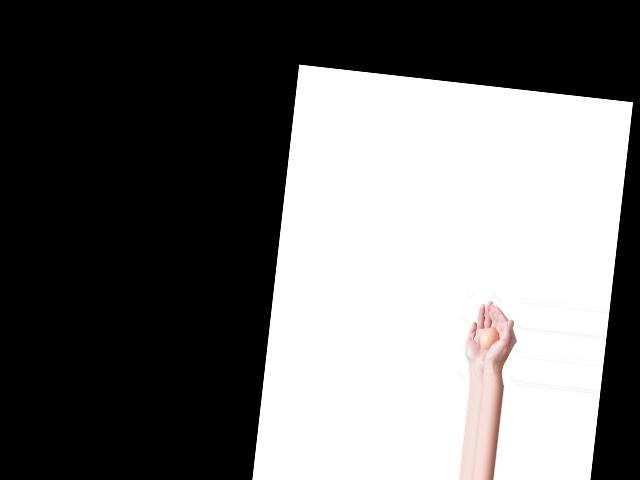egg: (480, 326, 500, 349)
